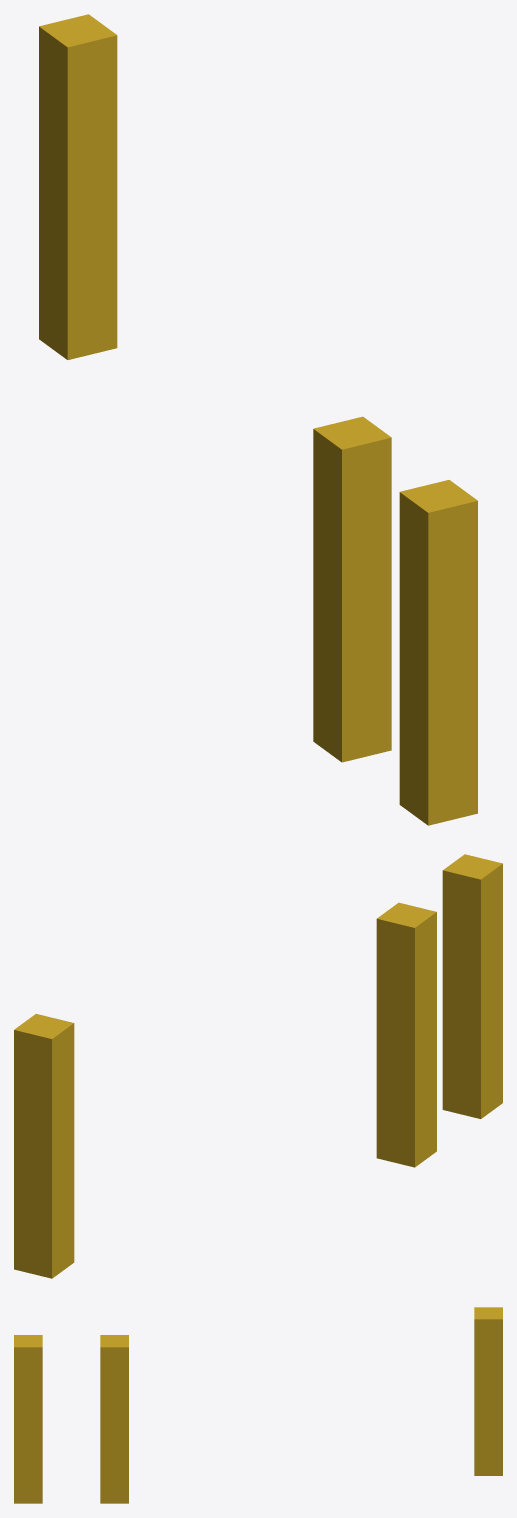
The model's file is yellowPillarGroup.fbx.
3 renders of one model, top to bottom at view 1: azimuth 30°, elevation 25°; view 2: azimuth 150°, elevation 25°; view 3: azimuth 270°, elevation 25°, orthographic. The views are drawn at different scales.
Visible parts, largest first — view 1: Plane.054, Plane.135, Plane.055; view 2: Plane.054, Plane.135, Plane.055; view 3: Plane.135, Plane.055, Plane.054.
Part boxes in pixels (x1,y1,x2,y2): Plane.054: (313,416,391,762); Plane.135: (399,480,477,825); Plane.055: (39,14,117,359); Plane.054: (376,902,436,1167); Plane.135: (442,854,502,1118); Plane.055: (14,1014,74,1278); Plane.135: (14,1335,42,1503); Plane.055: (474,1307,502,1475); Plane.054: (100,1335,128,1503).
Size of the model in its own units: 300 by 800 by 1700.
